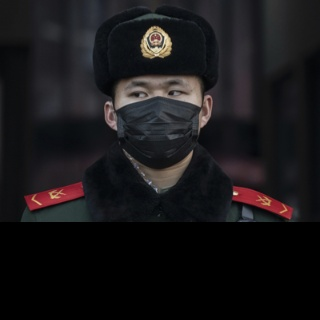with_mask: (114, 77, 204, 168)
